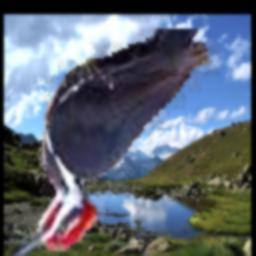Woodpecker: (8, 30, 218, 256)
